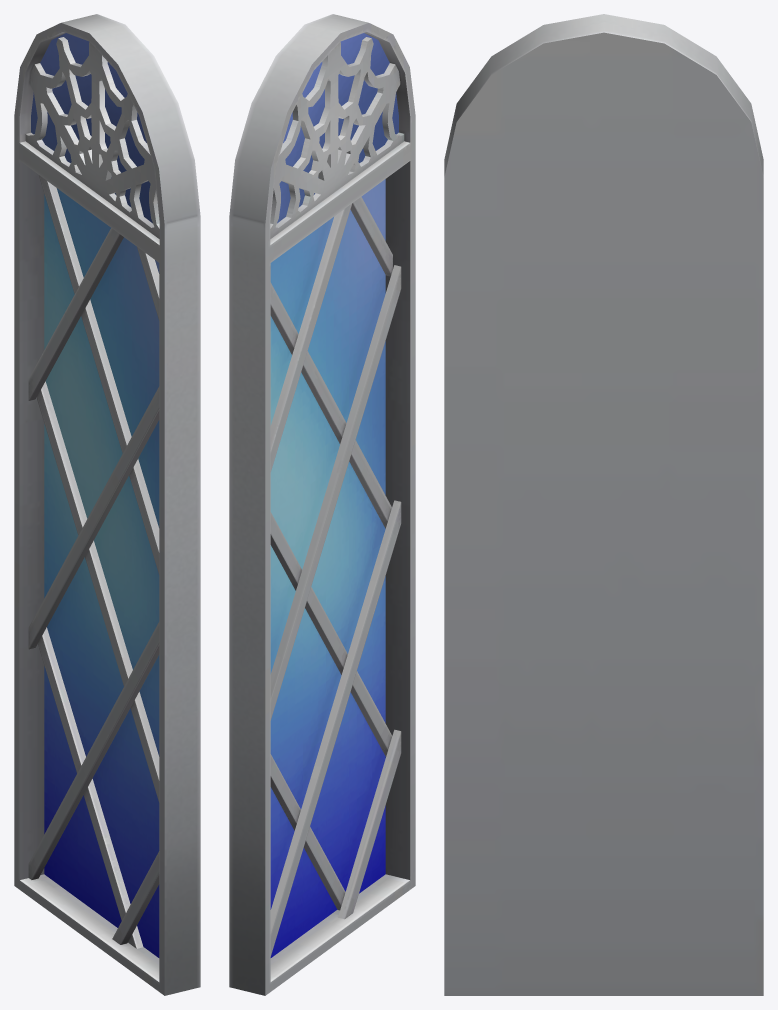
Rendered from my_halloween_01_p_window.glb.
The picture shows the model from 3 angles, left to right: view 1: azimuth 30°, elevation 25°; view 2: azimuth 150°, elevation 25°; view 3: azimuth 270°, elevation 25°; orthographic projection. The views are drawn at different scales.
Parts seen in each view (by area): view 1: my_halloween_01_p_window; view 2: my_halloween_01_p_window; view 3: my_halloween_01_p_window.
Part boxes in pixels (x1,y1,x2,y2): my_halloween_01_p_window: (14, 14, 200, 995); my_halloween_01_p_window: (229, 14, 415, 995); my_halloween_01_p_window: (444, 14, 763, 995).
Size of the model in its own units: 0.00135 by 0.0326 by 0.00977.
1 material, 1 textured.
